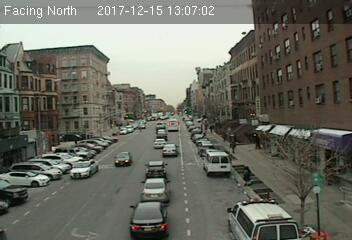car: (129, 201, 170, 237), (140, 178, 169, 203), (144, 161, 168, 179), (113, 152, 133, 165), (161, 144, 179, 157), (153, 139, 167, 149)
pedestrian: (240, 164, 253, 190)
police: (226, 198, 302, 240), (69, 157, 99, 179)
truck: (204, 150, 231, 176), (166, 119, 178, 131)
